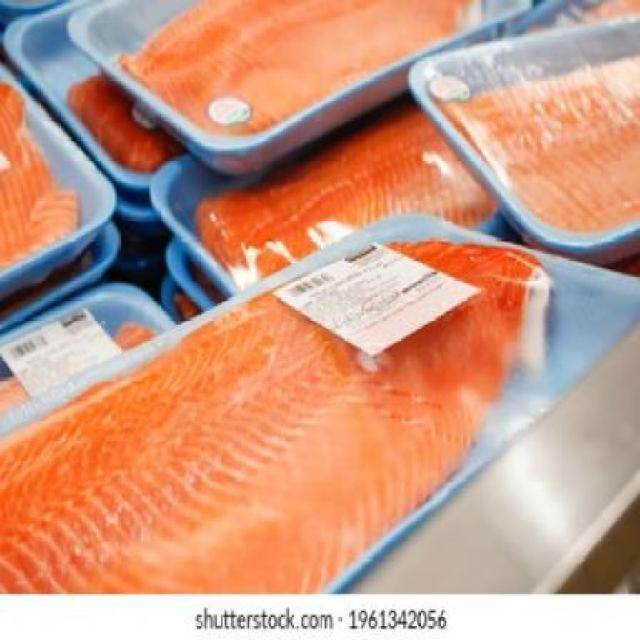salmon: (14, 258, 547, 590), (179, 119, 536, 292), (122, 3, 506, 142), (434, 49, 640, 246), (2, 66, 88, 276)
